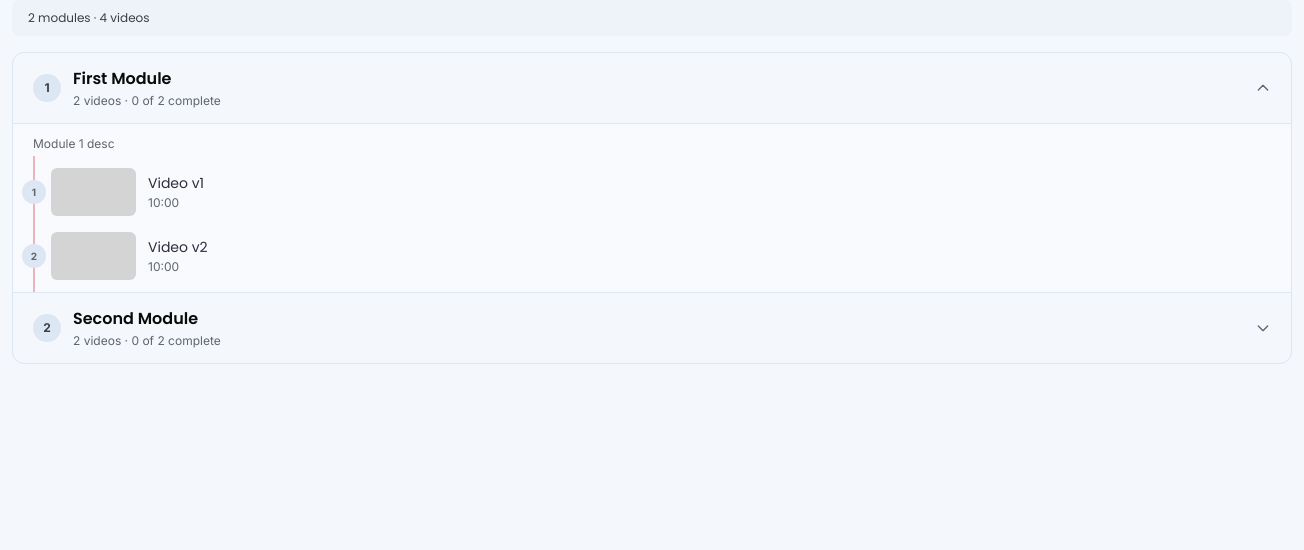
Test case: CourseTimeline › toggles accordion on click
The image size is (1304, 550).
expect the text "Video v3" is not shown: met
//  Open it
Click the heading "Second Module" at [136, 318], box [73,307,198,330]
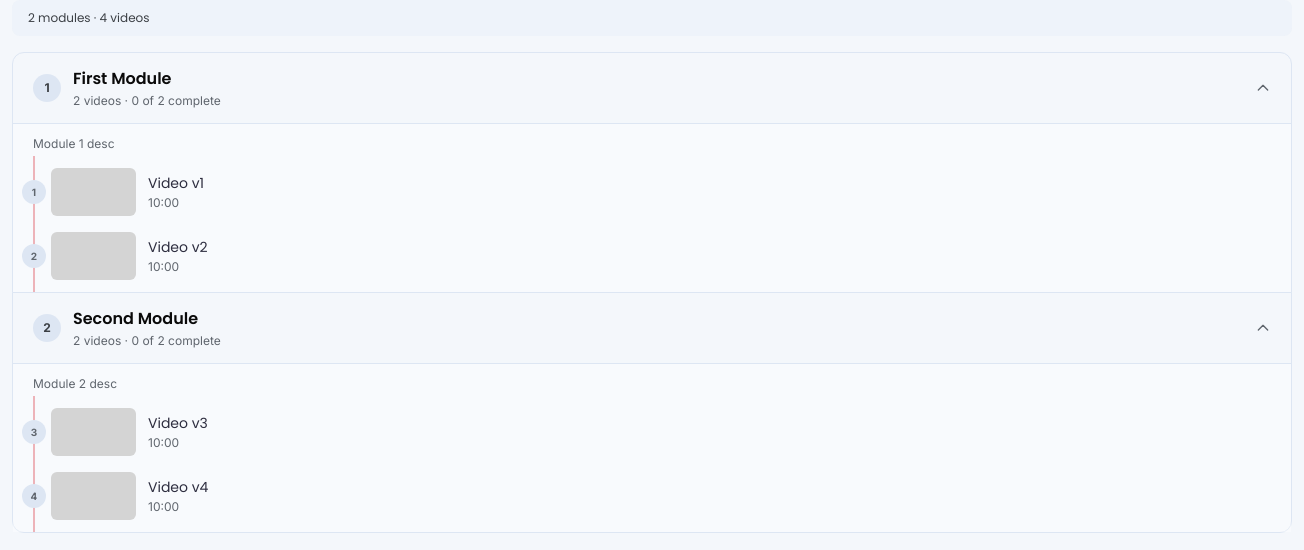
expect the text "Video v3" is shown: met, box [148,413,208,433]
// Close first module
Click the heading "First Module" at [122, 78], box [73,67,172,90]
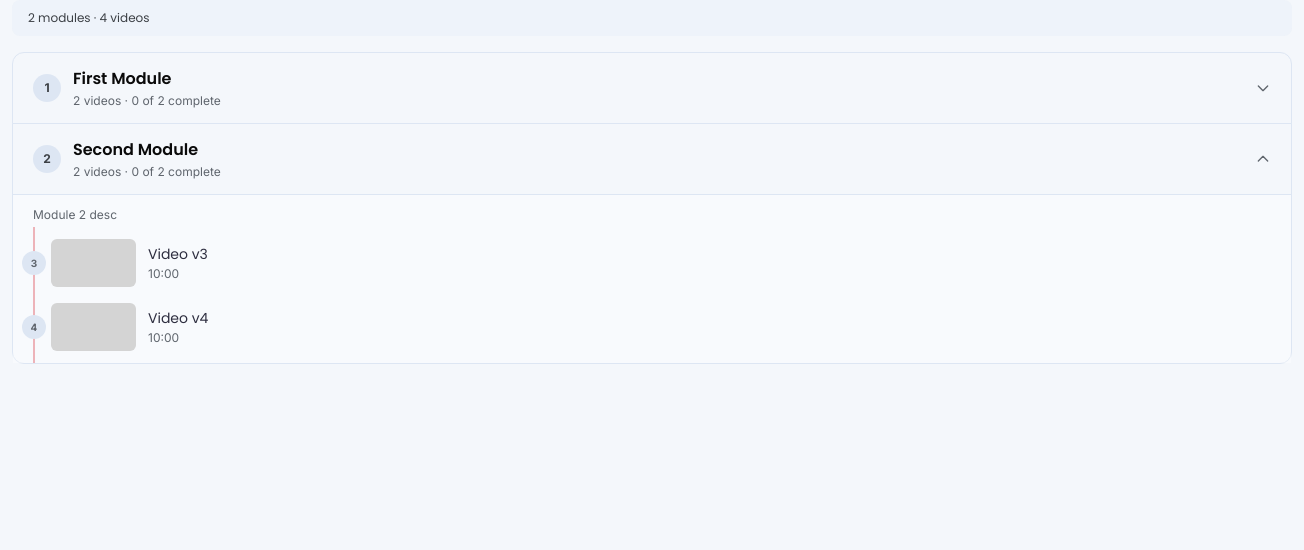
expect the link "Video v1" is gone: met
